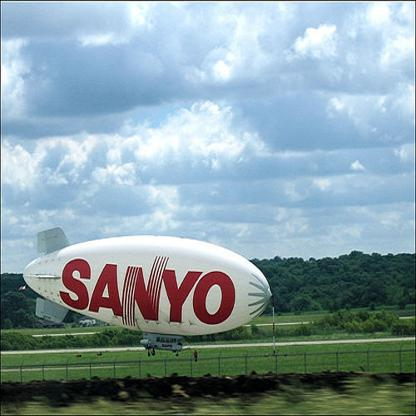Airship: (22, 228, 276, 353)
